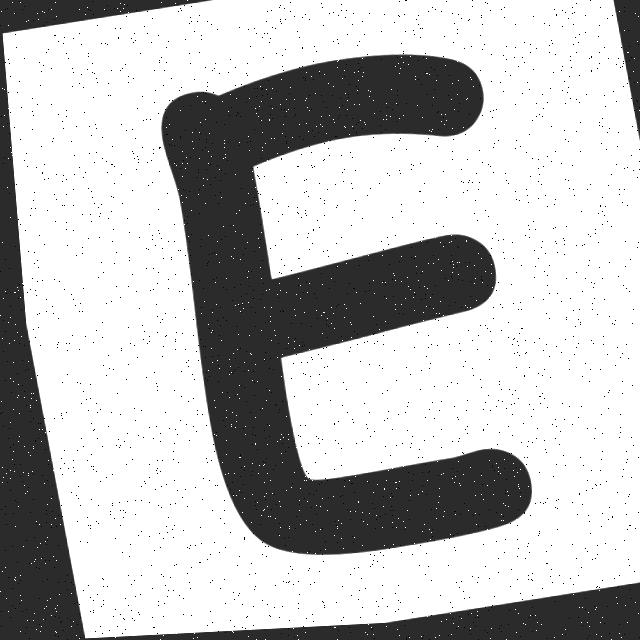E: (159, 58, 522, 557)
